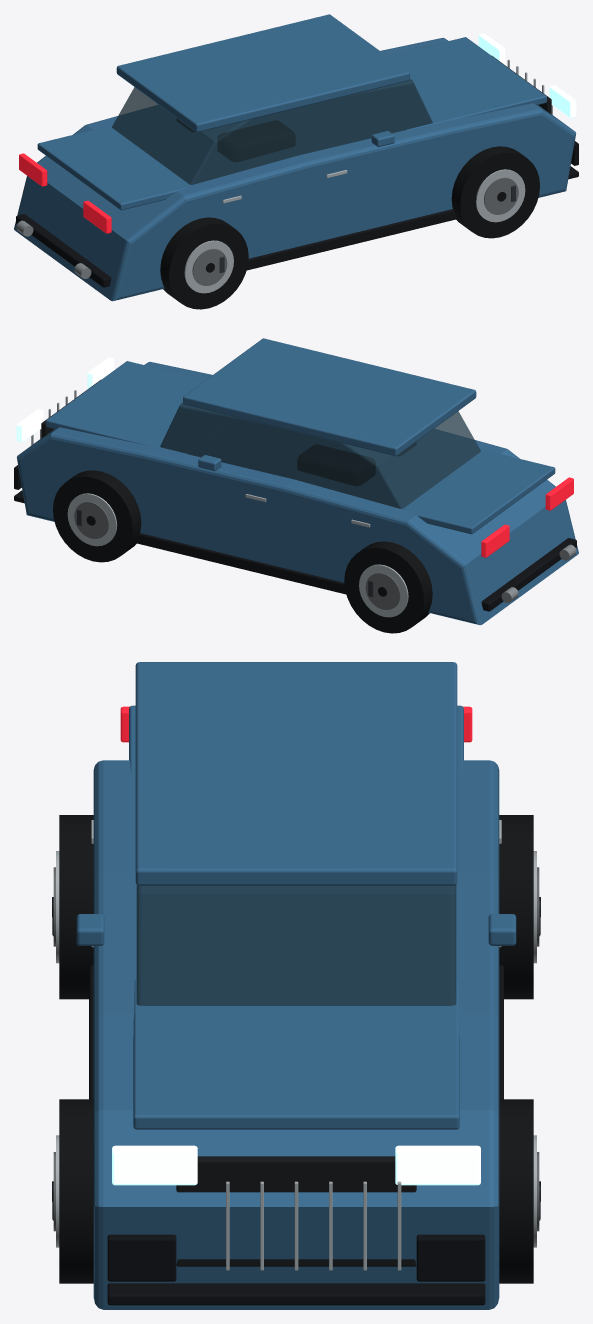
Rendered from chevy_captiva_sport.glb.
3 renders of one model, top to bottom at view 1: azimuth 30°, elevation 25°; view 2: azimuth 150°, elevation 25°; view 3: azimuth 270°, elevation 25°, orthographic. The views are drawn at different scales.
Parts seen in each view (by area): view 1: sculpted_body, roof, glasshouse, hood_center, rear_deck, rear_right_wheel_tire, front_right_wheel_tire, side_skirt_1, seat_1, rear_diffuser, rear_right_wheel_rim, front_right_wheel_rim (+6 smaller); view 2: sculpted_body, roof, glasshouse, hood_center, rear_deck, rear_left_wheel_tire, front_left_wheel_tire, side_skirt_-1, seat_-1, rear_diffuser, rear_left_wheel_rim, front_left_wheel_rim (+6 smaller); view 3: sculpted_body, roof, hood_center, glasshouse, front_grille, front_splitter, front_left_wheel_tire, front_right_wheel_tire, rear_left_wheel_tire, rear_right_wheel_tire, headlight_right, headlight_left (+5 smaller).
Part boxes in pixels (x1,y1,x2,y2): sculpted_body: [14, 38, 576, 301]; roof: [116, 14, 409, 132]; glasshouse: [112, 78, 432, 184]; hood_center: [358, 37, 546, 129]; rear_deck: [37, 126, 190, 210]; rear_right_wheel_tire: [160, 217, 248, 309]; front_right_wheel_tire: [451, 146, 539, 238]; side_skirt_1: [246, 209, 457, 270]; seat_1: [218, 121, 294, 161]; rear_diffuser: [16, 214, 111, 287]; rear_right_wheel_rim: [184, 240, 233, 293]; front_right_wheel_rim: [475, 169, 525, 222]; sculpted_body: [16, 362, 578, 625]; roof: [183, 338, 476, 456]; glasshouse: [160, 402, 480, 508]; hood_center: [46, 361, 234, 453]; rear_deck: [402, 450, 555, 534]; rear_left_wheel_tire: [344, 541, 432, 633]; front_left_wheel_tire: [53, 470, 141, 562]; side_skirt_-1: [135, 533, 346, 594]; seat_-1: [298, 445, 374, 485]; rear_diffuser: [481, 538, 576, 611]; rear_left_wheel_rim: [359, 564, 408, 617]; front_left_wheel_rim: [67, 493, 117, 546]; sculpted_body: [93, 760, 499, 1309]; roof: [135, 662, 457, 885]; hood_center: [133, 979, 459, 1129]; glasshouse: [136, 885, 456, 1005]; front_grille: [176, 1156, 416, 1266]; front_splitter: [107, 1283, 485, 1305]; front_left_wheel_tire: [499, 1099, 533, 1283]; front_right_wheel_tire: [59, 1099, 93, 1283]; rear_left_wheel_tire: [499, 815, 533, 999]; rear_right_wheel_tire: [59, 815, 93, 999]; headlight_right: [112, 1145, 197, 1185]; headlight_left: [395, 1145, 480, 1185].
Size of the model in its own units: 5.24 by 1.73 by 2.28.
